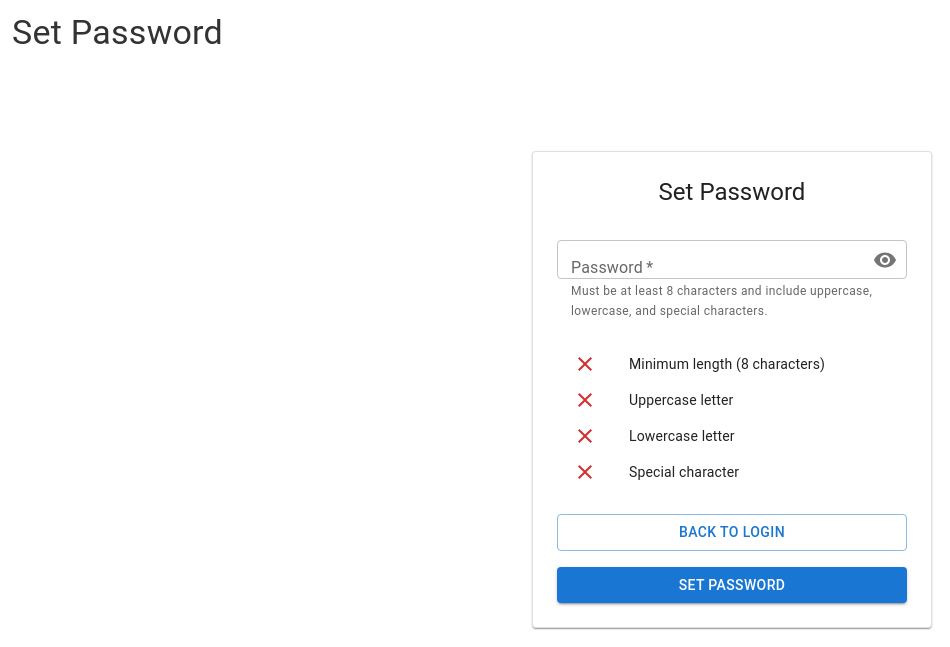
it: PasswordSetup checklist › updates checklist as user types
The width and height of the screenshot is (950, 647).
Expected: the icon with test id "min_length-close" is shown, [573,352,597,376]
Expected: the icon with test id "uppercase-close" is shown, [573,388,597,412]
Type "Abcdefg" into the password field labelled "Password *". click: (707, 260)
box: [557,240,857,279]
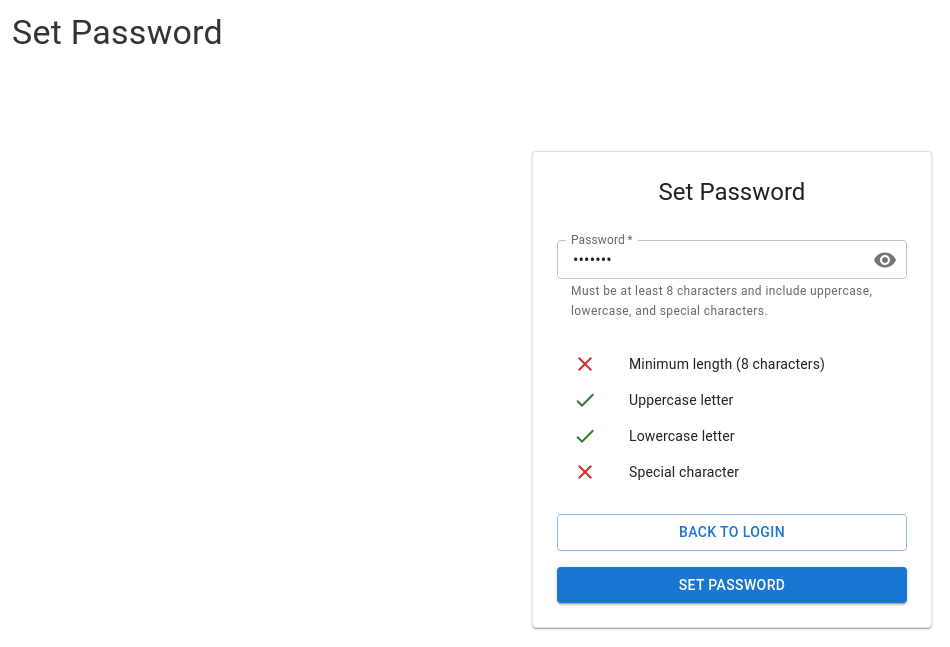
Expected: the icon with test id "min_length-close" is shown, [573,352,597,376]
Now the icon with test id "uppercase-check" is shown, box [573,388,597,412]
Now the icon with test id "lowercase-check" is shown, box [573,424,597,448]
Type "Abcdefg@" into the password field labelled "Password *". click: (707, 260)
box: [557,240,857,279]
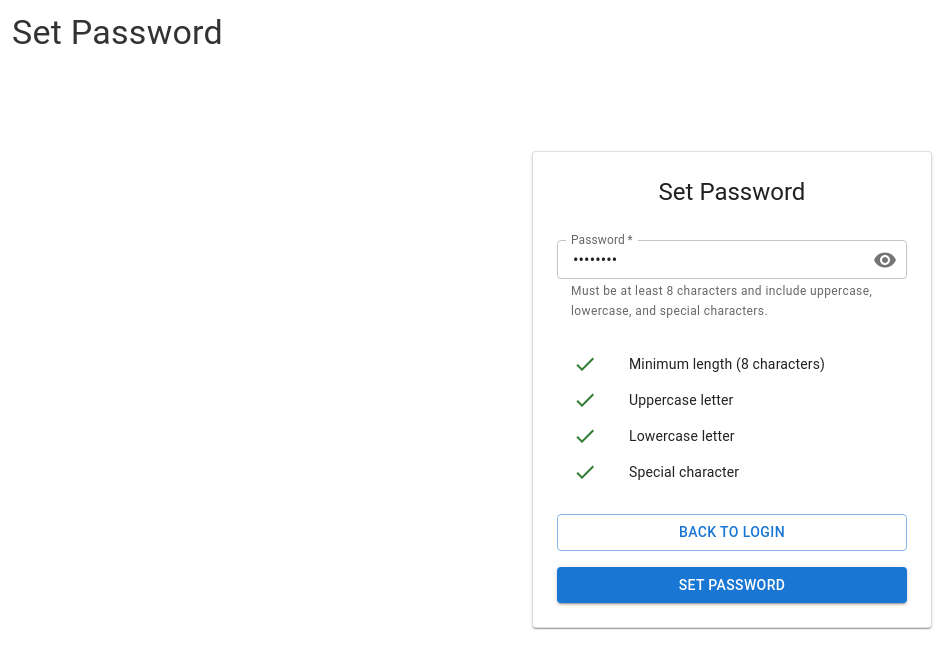
Now the icon with test id "min_length-check" is shown, box [573,352,597,376]
Now the icon with test id "symbol-check" is shown, box [573,460,597,484]
